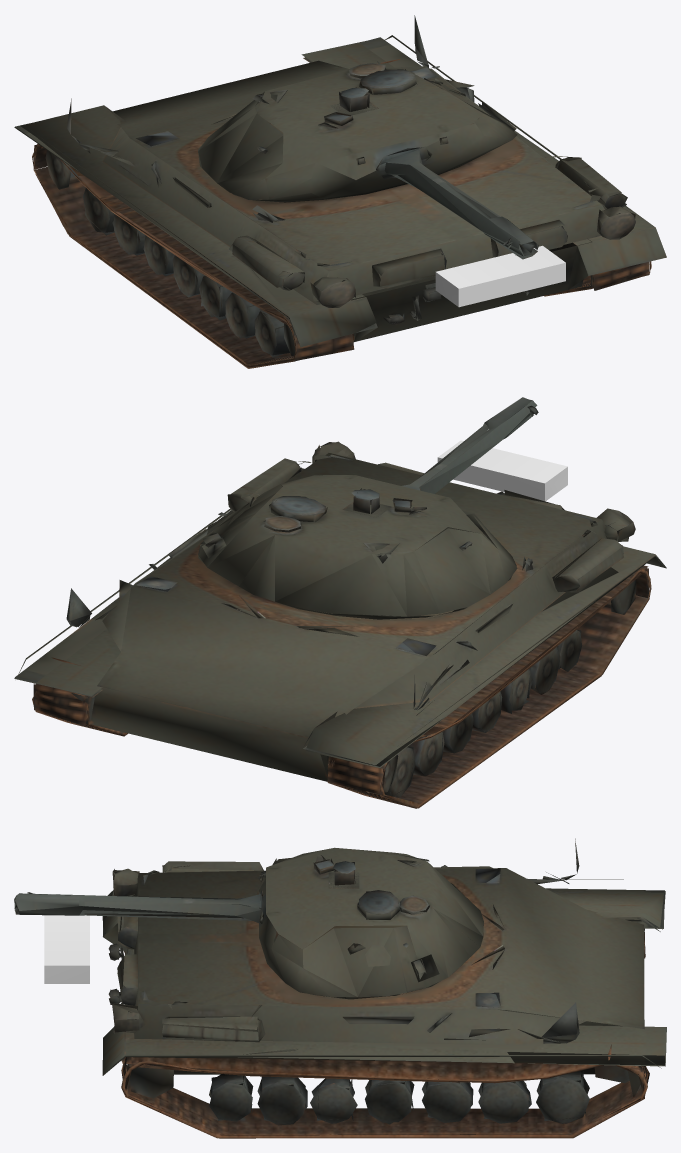
The picture shows the model from 3 angles, top to bottom: view 1: azimuth 30°, elevation 25°; view 2: azimuth 150°, elevation 25°; view 3: azimuth 270°, elevation 25°; orthographic projection.
Parts seen in each view (by area): view 1: ru-t-72b3, turret; view 2: ru-t-72b3, turret; view 3: ru-t-72b3, turret.
Part boxes in pixels (x1,y1,x2,y2): ru-t-72b3: (14,15,666,368); turret: (200,61,538,252); ru-t-72b3: (14,413,666,808); turret: (208,397,538,615); ru-t-72b3: (14,838,666,1138); turret: (14,847,482,996).
Size of the model in its own units: 0.6869 by 0.336 by 1.08.
Materials: 2 (1 with a texture image).
